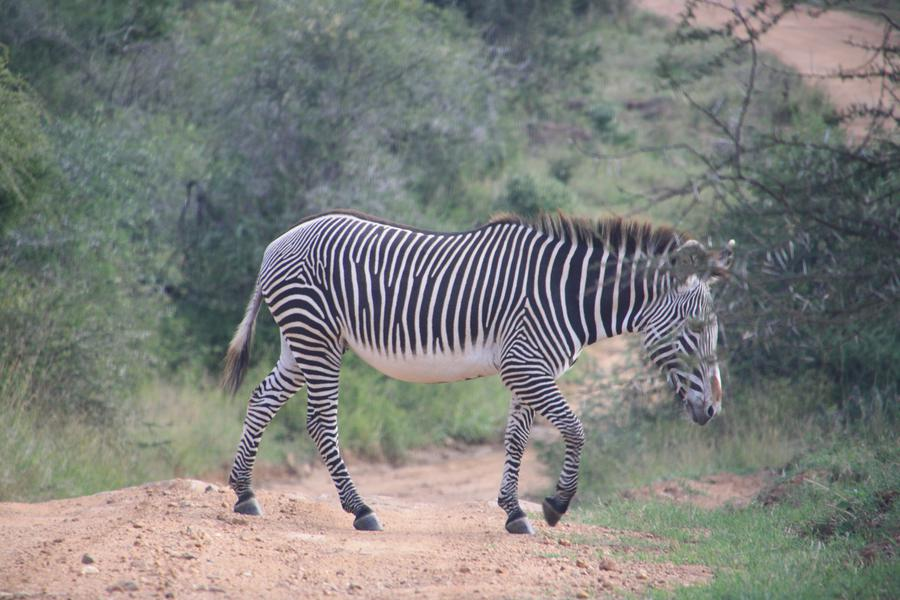zebra_grevys: (258, 194, 575, 367)
